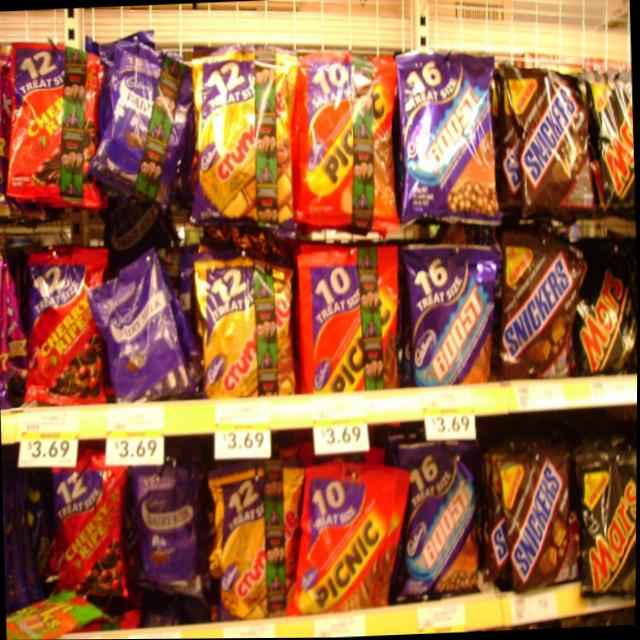q142: (503, 54, 598, 222), (487, 445, 583, 592), (495, 233, 578, 387)
